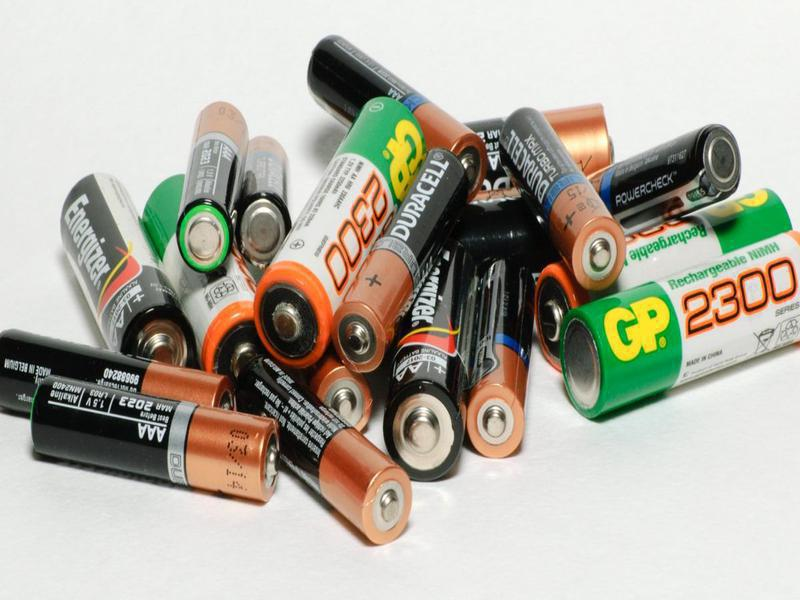battery: (252, 95, 426, 372), (556, 229, 800, 424), (236, 356, 415, 547), (29, 376, 288, 507), (333, 144, 472, 378), (54, 168, 200, 368), (496, 105, 631, 295), (466, 256, 539, 469), (174, 91, 249, 279)
